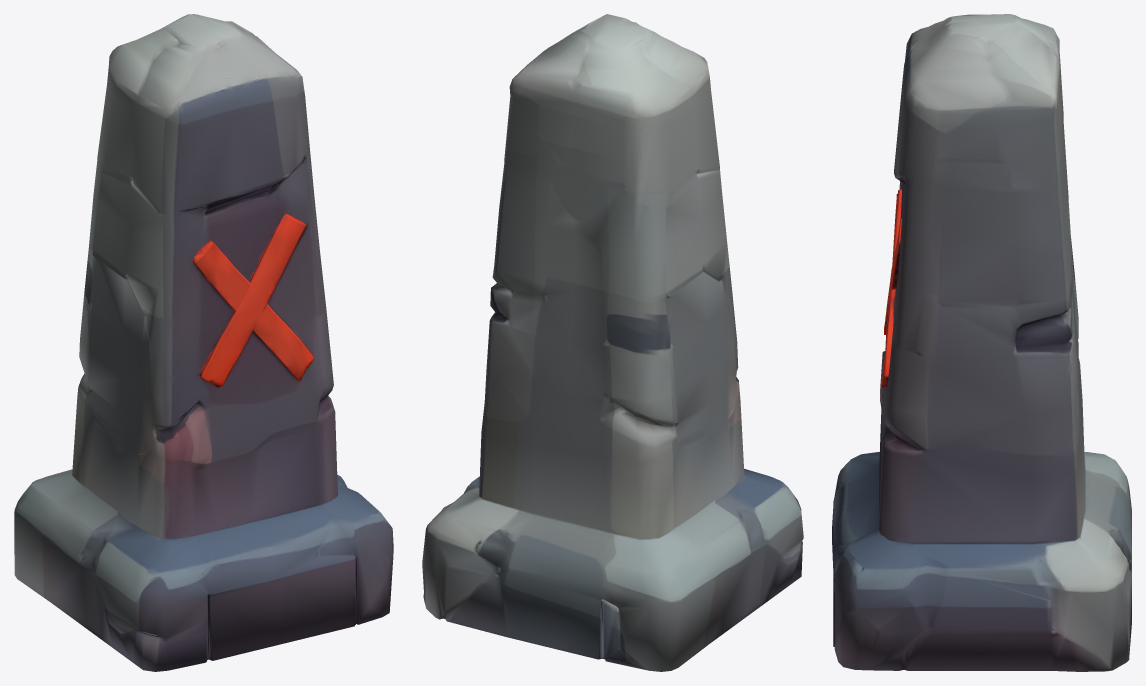
3 renders of one model, left to right at view 1: azimuth 30°, elevation 25°; view 2: azimuth 150°, elevation 25°; view 3: azimuth 270°, elevation 25°, orthographic. The views are drawn at different scales.
Parts seen in each view (by area): view 1: tripo_node_92c5dcf0-2ead-47e0-bd69-85799cc9de21; view 2: tripo_node_92c5dcf0-2ead-47e0-bd69-85799cc9de21; view 3: tripo_node_92c5dcf0-2ead-47e0-bd69-85799cc9de21.
Part boxes in pixels (<box>): tripo_node_92c5dcf0-2ead-47e0-bd69-85799cc9de21: <box>14,14,393,671</box>; tripo_node_92c5dcf0-2ead-47e0-bd69-85799cc9de21: <box>422,14,803,671</box>; tripo_node_92c5dcf0-2ead-47e0-bd69-85799cc9de21: <box>832,14,1131,671</box>.
Bounding box in the file's own units: 0.5059 × 0.998 × 0.4629.
1 material, 1 textured.
